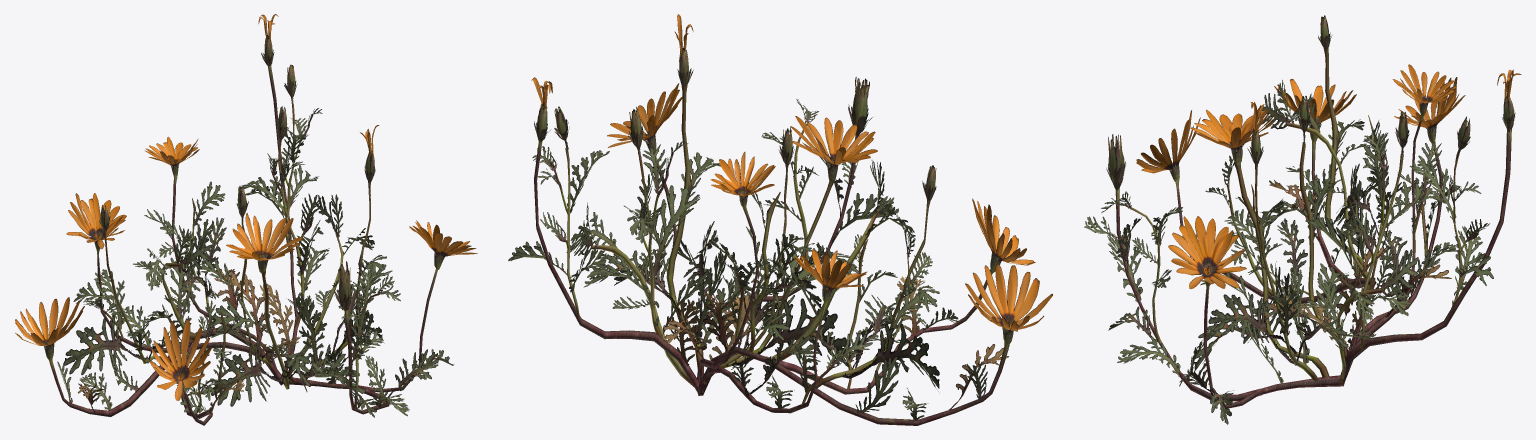
File: flower_ursinia_single_1.fbx
3 views of the same model, side by side, from view 1: azimuth 30°, elevation 25°; view 2: azimuth 150°, elevation 25°; view 3: azimuth 270°, elevation 25° (orthographic). The views are drawn at different scales.
Parts seen in each view (by area): view 1: flower_ursinia_single_1; view 2: flower_ursinia_single_1; view 3: flower_ursinia_single_1.
Boxes of the visible parts, x1,y1,x2,y2 form: flower_ursinia_single_1: [15, 14, 477, 425]; flower_ursinia_single_1: [508, 14, 1052, 425]; flower_ursinia_single_1: [1084, 15, 1521, 424].
Bounding box in the file's own units: 0.4254 × 0.3 × 0.3433.
1 material, 1 textured.
